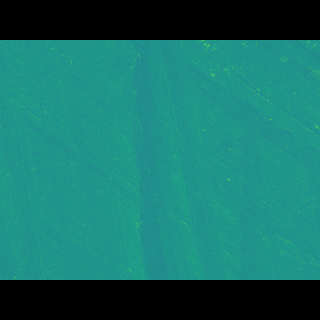Loch: (111, 70, 228, 250), (0, 68, 274, 108), (227, 91, 286, 250)
